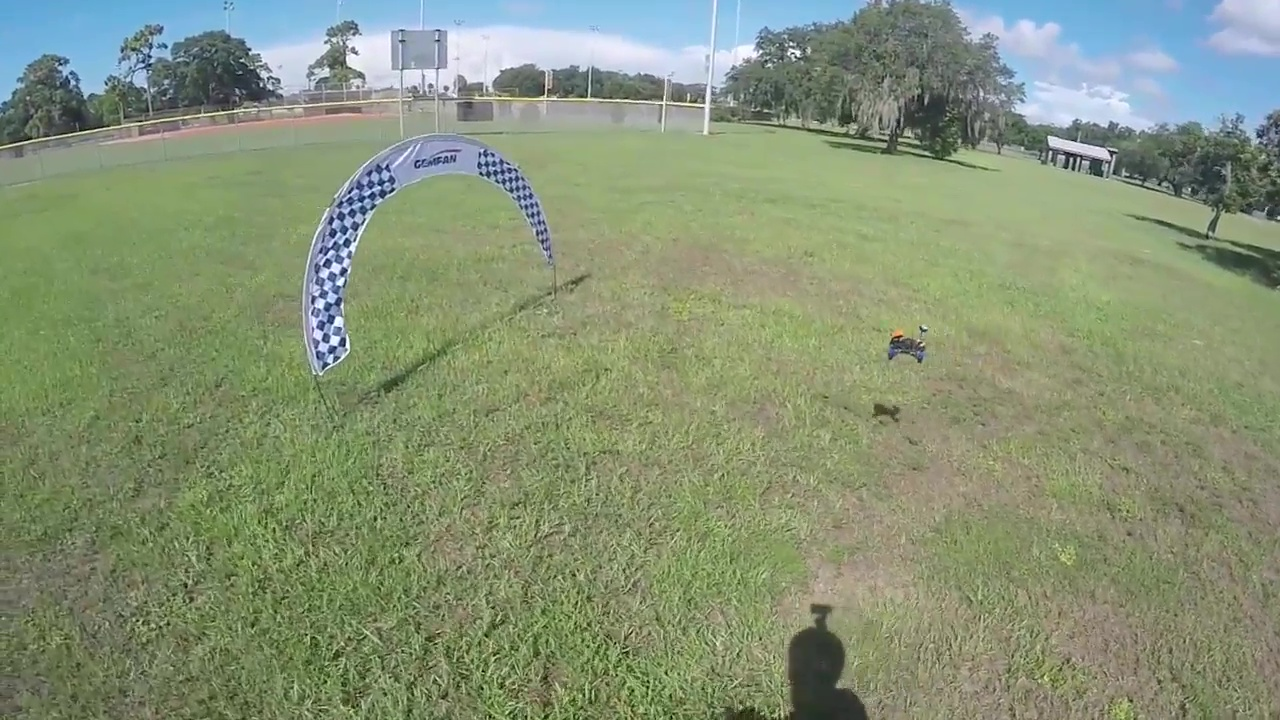gate: (298, 133, 549, 367)
